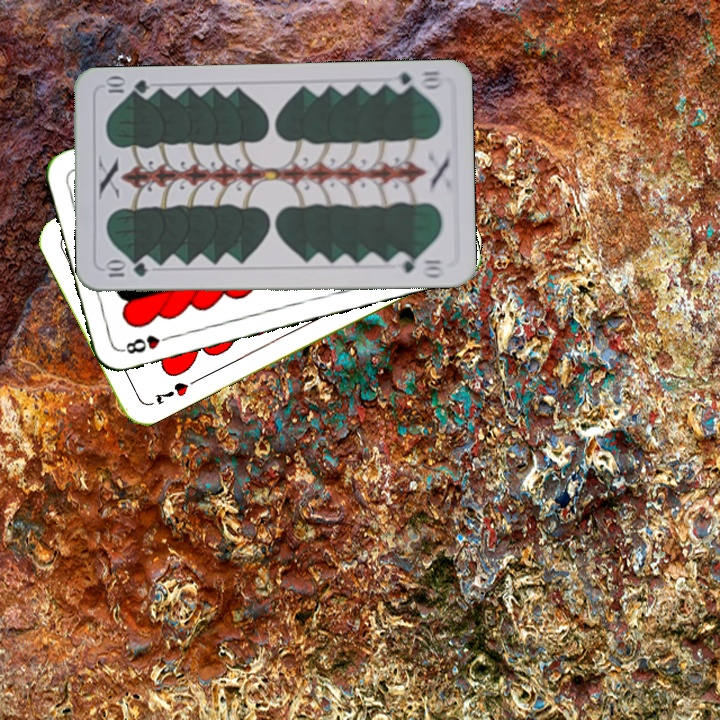G10: (387, 67, 446, 94), (101, 259, 150, 280)
H7: (150, 378, 192, 407)
H8: (117, 331, 176, 357)
